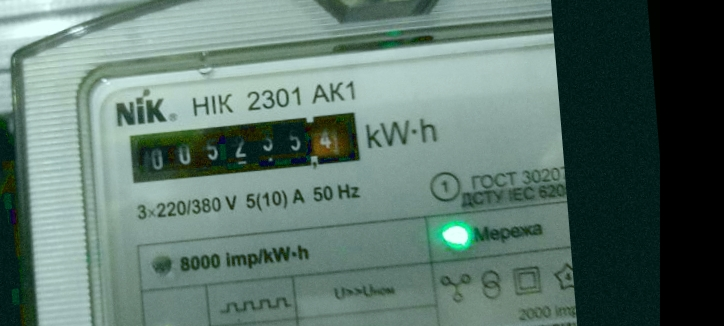0: (148, 144, 165, 170), (176, 140, 193, 165)
2: (230, 132, 248, 159)
3: (257, 126, 276, 153)
4: (315, 122, 335, 152)
5: (285, 123, 303, 152), (203, 135, 219, 161)
screen: (115, 100, 370, 192)
